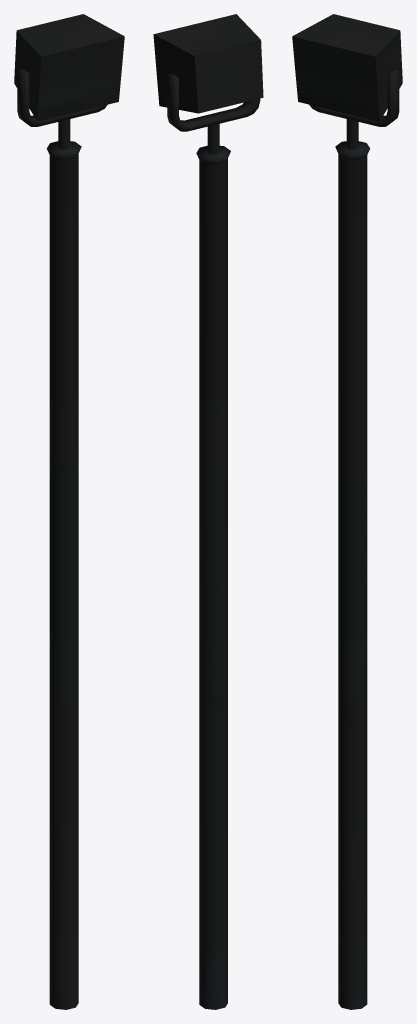
The model's file is Light-03.obj.
The picture shows the model from 3 angles, left to right: view 1: azimuth 30°, elevation 25°; view 2: azimuth 210°, elevation 25°; view 3: azimuth 330°, elevation 25°; orthographic projection.
Visible parts, largest first — view 1: Light-01; view 2: Light-01; view 3: Light-01.
Part boxes in pixels (box(x1,y1,x2,y2)): Light-01: box(14, 14, 124, 1009); Light-01: box(153, 14, 263, 1009); Light-01: box(292, 14, 402, 1009).
Bounding box in the file's own units: 0.5117 × 5.5 × 0.3723.
